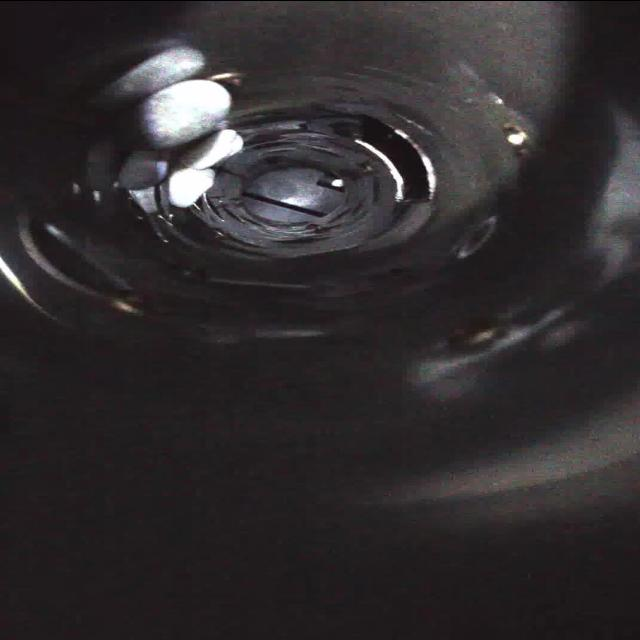crack: (290, 114, 344, 156), (204, 228, 276, 258), (272, 224, 350, 251), (230, 128, 294, 160), (188, 188, 236, 224), (334, 206, 380, 236), (354, 172, 388, 212), (178, 160, 228, 186)
hole: (350, 111, 444, 208)
